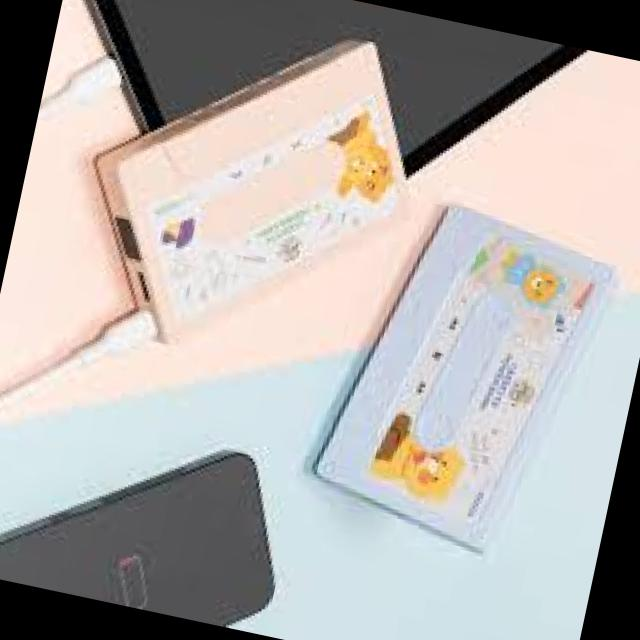portable-charger: (52, 0, 442, 391), (292, 184, 627, 572)
